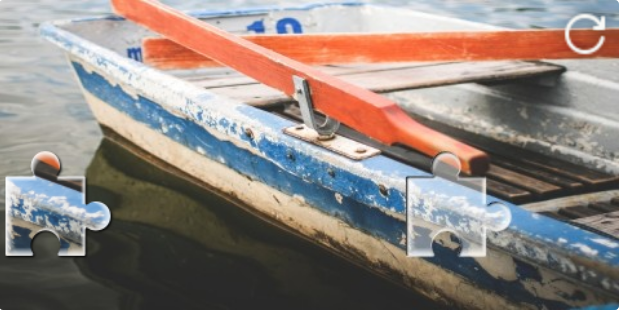target: (407, 153, 511, 258)
